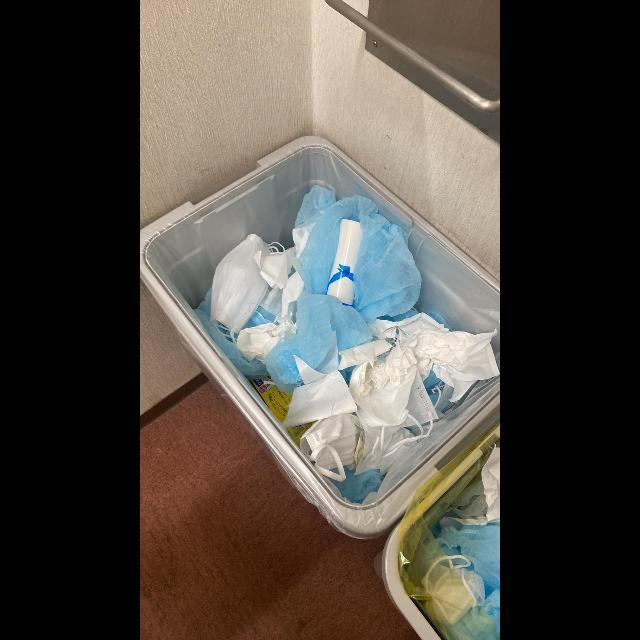paper: (349, 313, 500, 427), (283, 355, 358, 428), (236, 313, 297, 365), (253, 247, 296, 290), (338, 339, 393, 371)
